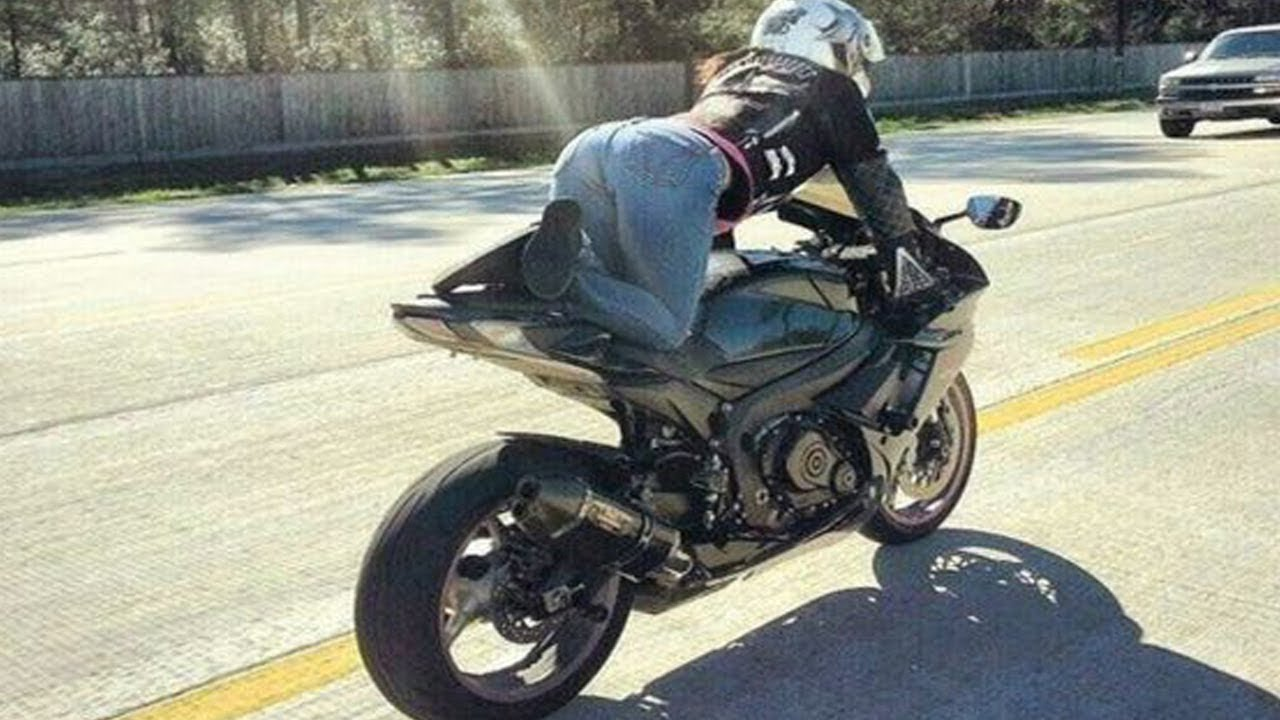motorcycle: (355, 193, 1027, 720)
